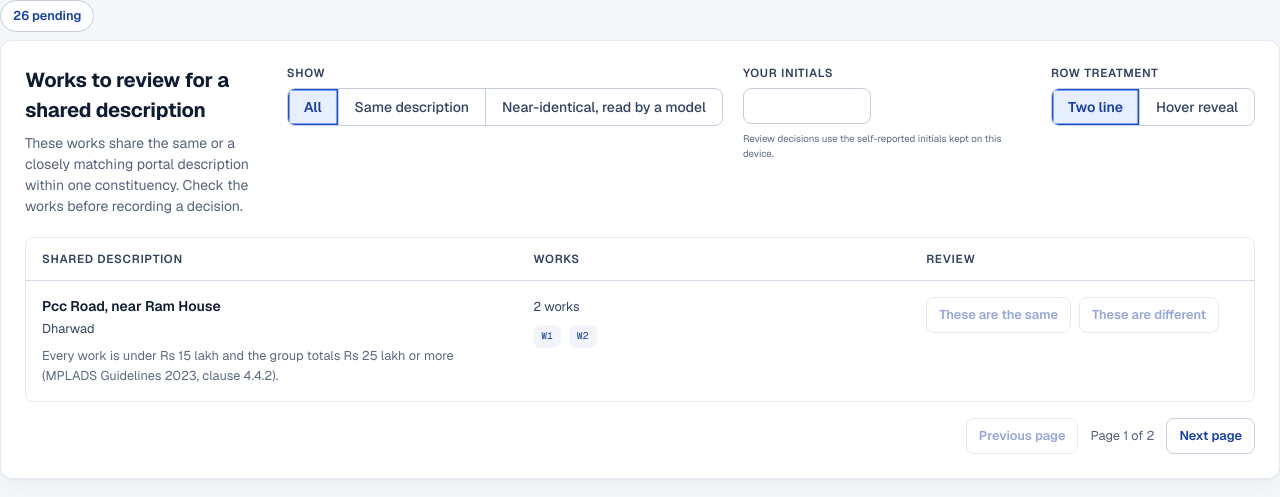
Scenario: DuplicateReviewQueue › choosing the judged filter refetches with kind=judged and resets to page 1; the default request omits kind
Expected: the text "Pcc Road, near Ram House" is shown, [42,297,221,315]
Click the button "Next page": [1211, 436] box [1166,418,1255,454]
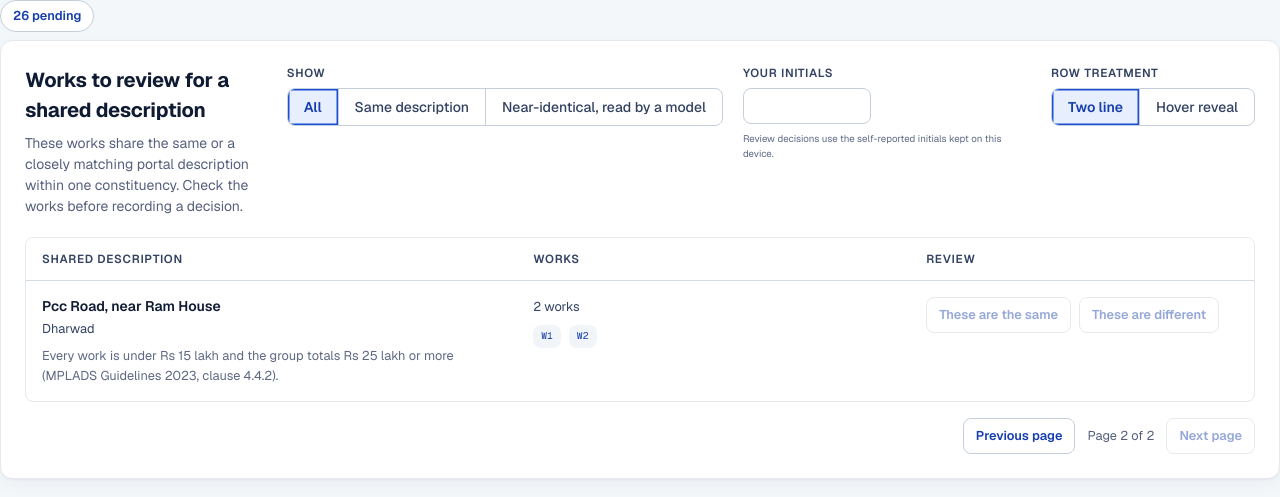
Click the radio button labelled "Near-identical, read by a model": [603, 107] box [485,89,722,125]
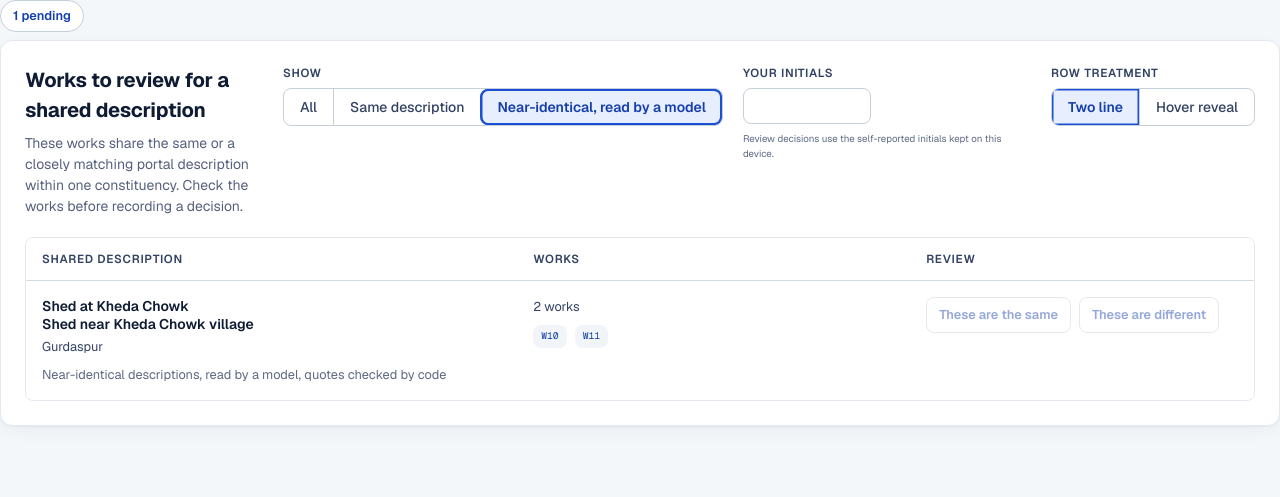
Expected: the text "Shed at Kheda Chowk" is shown, [42,297,189,315]
